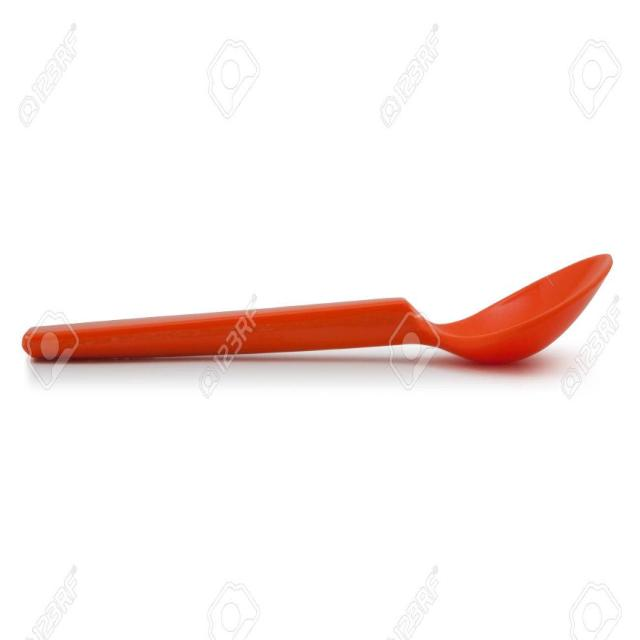spoon: (6, 243, 618, 389)
